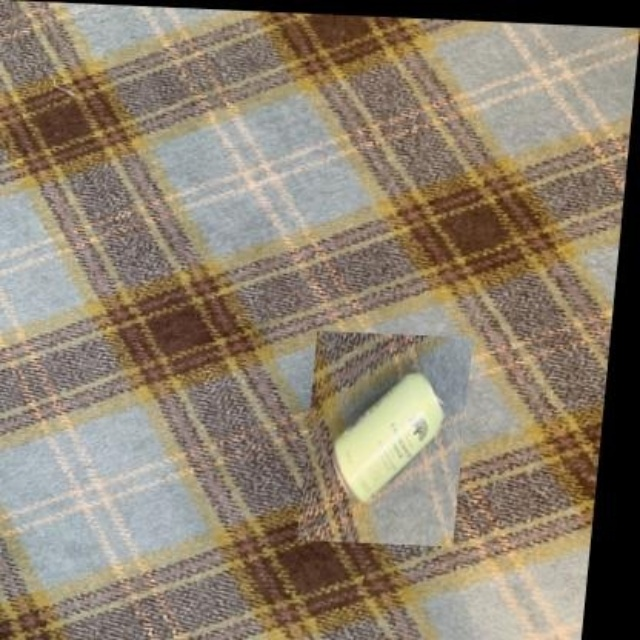trash: (334, 372, 442, 500)
